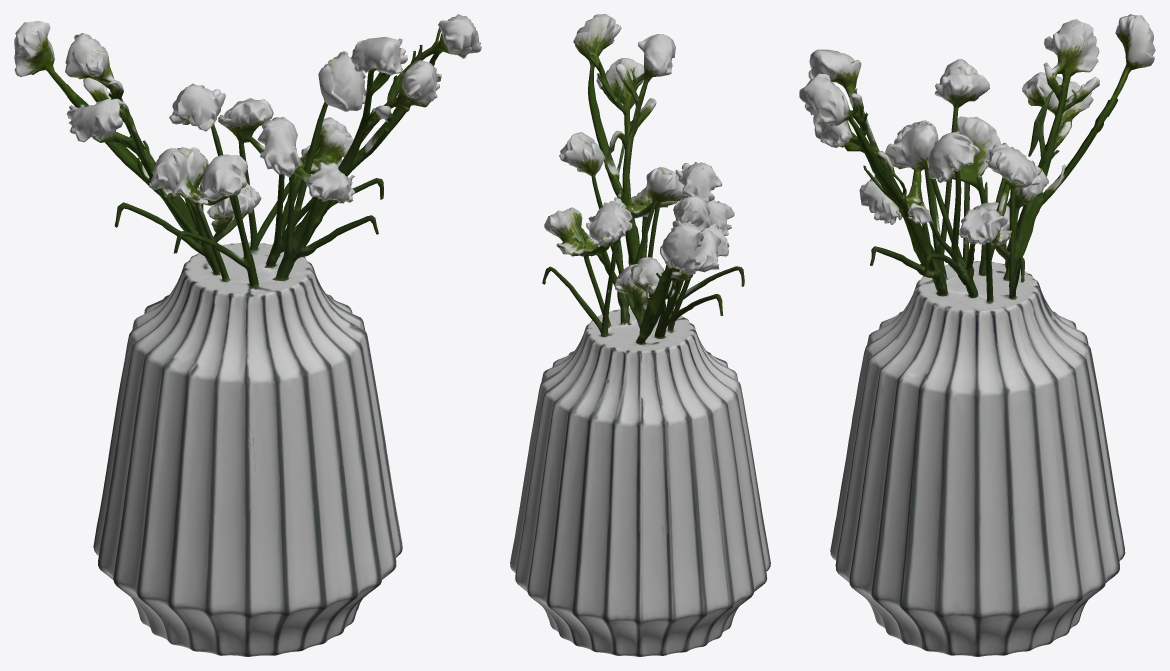
File: decor-vase-striped.glb
3 renders of one model, left to right at view 1: azimuth 30°, elevation 25°; view 2: azimuth 150°, elevation 25°; view 3: azimuth 270°, elevation 25°, orthographic. The views are drawn at different scales.
Visible parts, largest first — view 1: tripo_node_ac89f6d7-e791-4f77-be20-154c9959e835; view 2: tripo_node_ac89f6d7-e791-4f77-be20-154c9959e835; view 3: tripo_node_ac89f6d7-e791-4f77-be20-154c9959e835.
Boxes of the visible parts, <box> form: tripo_node_ac89f6d7-e791-4f77-be20-154c9959e835: <box>14,14,481,656</box>; tripo_node_ac89f6d7-e791-4f77-be20-154c9959e835: <box>510,14,770,656</box>; tripo_node_ac89f6d7-e791-4f77-be20-154c9959e835: <box>799,14,1155,656</box>.
Bounding box in the file's own units: 0.1786 × 0.35 × 0.1894.
1 material, 1 textured.
